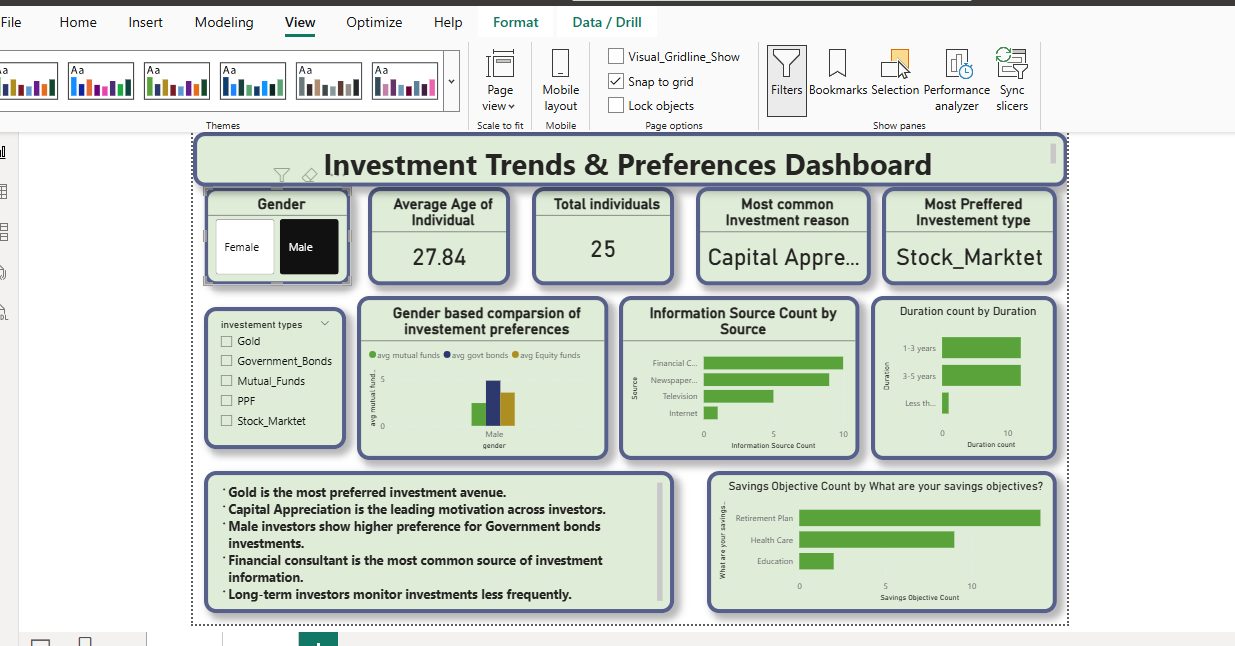

What the dashboard file says about the page in this screenshot:
{"tool":"powerbi","page":{"name":"Page 1","canvas":[1280,720],"ordinal":0},"visuals":[{"type":"card","title":"Average Age of Individual","fields":{"Values":["Data_set 2.Average Age"]},"box":[256,80,208,144],"z":0},{"type":"clusteredColumnChart","title":"Gender based comparsion of investement preferences","fields":{"Category":["Data_set 2.gender"],"Y":["Data_set 2.avg mutual funds","Data_set 2.avg govt bonds","Data_set 2.avg Equity funds"]},"box":[240,240,368,240],"z":1000},{"type":"clusteredBarChart","fields":{"Category":["Data_set 2.Source"],"Y":["Data_set 2.Information Source Count"]},"box":[624,240,352,240],"z":2000},{"type":"card","title":"Total individuals","fields":{"Values":["Data_set 2.Total individual"]},"box":[496,80,208,144],"z":3000},{"type":"advancedSlicerVisual","fields":{"Values":["Data_set 2.gender"]},"box":[16,80,215,144],"z":4000},{"type":"textbox","box":[0,0,1280,80],"z":5000},{"type":"slicer","fields":{"Values":["Investement_preference.investement types"]},"box":[16,256,208,208],"z":6000},{"type":"textbox","box":[16,496,688,208],"z":8000},{"type":"card","title":"Most common Investment reason","fields":{"Values":["Invesement_reason.Most Common Investment Reason"]},"box":[736,80,256,144],"z":9000},{"type":"card","title":"Most Preffered Investement type","fields":{"Values":["Investement_preference.Most Preferred Investment Type"]},"box":[1008,80,256,144],"z":10000},{"type":"clusteredBarChart","fields":{"Category":["Data_set 2.Duration"],"Y":["Data_set 2.Duration count"]},"box":[992,240,272,240],"z":10001},{"type":"clusteredBarChart","fields":{"Y":["Data_set 2.Savings Objective Count"],"Category":["Data_set 2.What are your savings objectives?"]},"box":[752,496,512,208],"z":10002}]}

Visuals, with their boxes on the page's 1280x720 design canvas (x1, y1, x2, y2). These are canvas units, not pixel positions in the 1235x646 screenshot, which may show the page scaled, cropped or inside an application window:
"Average Age of Individual" card: [x1=256, y1=80, x2=464, y2=224]
"Gender based comparsion of investement preferences" clusteredColumnChart: [x1=240, y1=240, x2=608, y2=480]
clusteredBarChart - Data_set 2.Source x Data_set 2.Information Source Count: [x1=624, y1=240, x2=976, y2=480]
"Total individuals" card: [x1=496, y1=80, x2=704, y2=224]
advancedSlicerVisual - Data_set 2.gender: [x1=16, y1=80, x2=231, y2=224]
textbox: [x1=0, y1=0, x2=1280, y2=80]
slicer - Investement_preference.investement types: [x1=16, y1=256, x2=224, y2=464]
textbox: [x1=16, y1=496, x2=704, y2=704]
"Most common Investment reason" card: [x1=736, y1=80, x2=992, y2=224]
"Most Preffered Investement type" card: [x1=1008, y1=80, x2=1264, y2=224]
clusteredBarChart - Data_set 2.Duration x Data_set 2.Duration count: [x1=992, y1=240, x2=1264, y2=480]
clusteredBarChart - Data_set 2.Savings Objective Count x Data_set 2.What are your savings objectives?: [x1=752, y1=496, x2=1264, y2=704]
